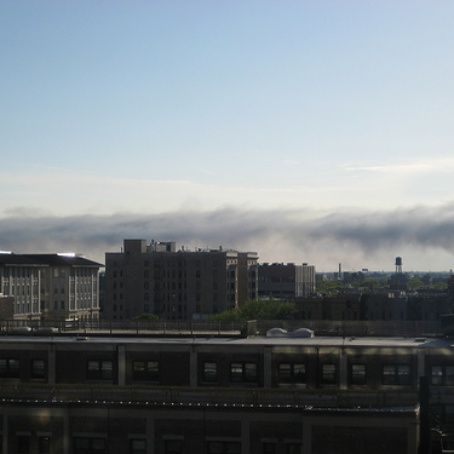building: (1, 336, 444, 454), (106, 239, 254, 319), (2, 243, 106, 330), (257, 263, 320, 300)
sky: (1, 1, 449, 242)
